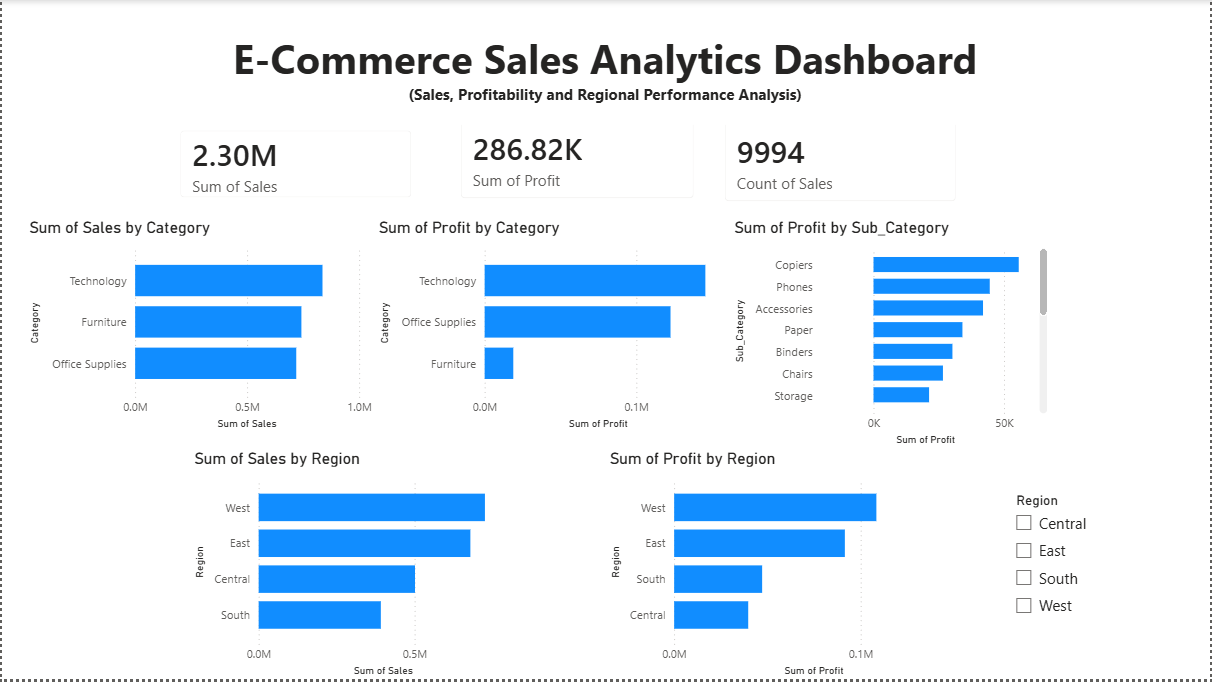

This screenshot's page, from the dashboard's own definition file:
{"tool":"powerbi","page":{"name":"Page 1","canvas":[1280,720],"ordinal":0},"visuals":[{"type":"cardVisual","title":"Total Sales","fields":{"Data":["Sum(SuperstoreSales_Import.Sales)"]},"box":[171.7,101.9,279.2,124.5],"z":0},{"type":"cardVisual","title":"Total Profit","fields":{"Data":["Sum(SuperstoreSales_Import.Profit)"]},"box":[469.8,86.8,281.1,139.6],"z":1000},{"type":"cardVisual","title":"Total Transactions","fields":{"Data":["CountNonNull(SuperstoreSales_Import.Sales)"]},"box":[749.1,90.6,279.2,139.6],"z":2000},{"type":"clusteredBarChart","fields":{"Category":["SuperstoreSales_Import.Category"],"Y":["Sum(SuperstoreSales_Import.Sales)"]},"box":[24.5,230.2,373.6,228.3],"z":3000},{"type":"clusteredBarChart","fields":{"Category":["SuperstoreSales_Import.Category"],"Y":["Sum(SuperstoreSales_Import.Profit)"]},"box":[394.3,230.2,377.4,228.3],"z":4000},{"type":"clusteredBarChart","fields":{"Category":["SuperstoreSales_Import.Region"],"Y":["Sum(SuperstoreSales_Import.Sales)"]},"box":[198.1,475.5,356.6,245.3],"z":5000},{"type":"clusteredBarChart","fields":{"Category":["SuperstoreSales_Import.Region"],"Y":["Sum(SuperstoreSales_Import.Profit)"]},"box":[639.6,475.5,388.7,245.3],"z":6000},{"type":"clusteredBarChart","fields":{"Category":["SuperstoreSales_Import.Sub_Category"],"Y":["Sum(SuperstoreSales_Import.Profit)"]},"box":[771.7,230.2,341.5,245.3],"z":7000},{"type":"slicer","fields":{"Values":["SuperstoreSales_Import.Region"]},"box":[1062.3,517,113.2,160.4],"z":7001},{"type":"textbox","box":[0,26.4,1279.2,105.7],"z":7002}]}

Visuals, with their boxes in screenshot pixels (x1, y1, x2, y2), scaled from the page's 1280x720 canvas onto the 1212x683 screenshot:
"Total Sales" cardVisual: 163:97:427:215
"Total Profit" cardVisual: 445:82:711:215
"Total Transactions" cardVisual: 709:86:974:218
clusteredBarChart - SuperstoreSales_Import.Category x Sum(SuperstoreSales_Import.Sales): 23:218:377:435
clusteredBarChart - SuperstoreSales_Import.Category x Sum(SuperstoreSales_Import.Profit): 373:218:731:435
clusteredBarChart - SuperstoreSales_Import.Region x Sum(SuperstoreSales_Import.Sales): 188:451:525:682
clusteredBarChart - SuperstoreSales_Import.Region x Sum(SuperstoreSales_Import.Profit): 606:451:974:682
clusteredBarChart - SuperstoreSales_Import.Sub_Category x Sum(SuperstoreSales_Import.Profit): 731:218:1054:451
slicer - SuperstoreSales_Import.Region: 1006:490:1113:643
textbox: 0:25:1211:125
